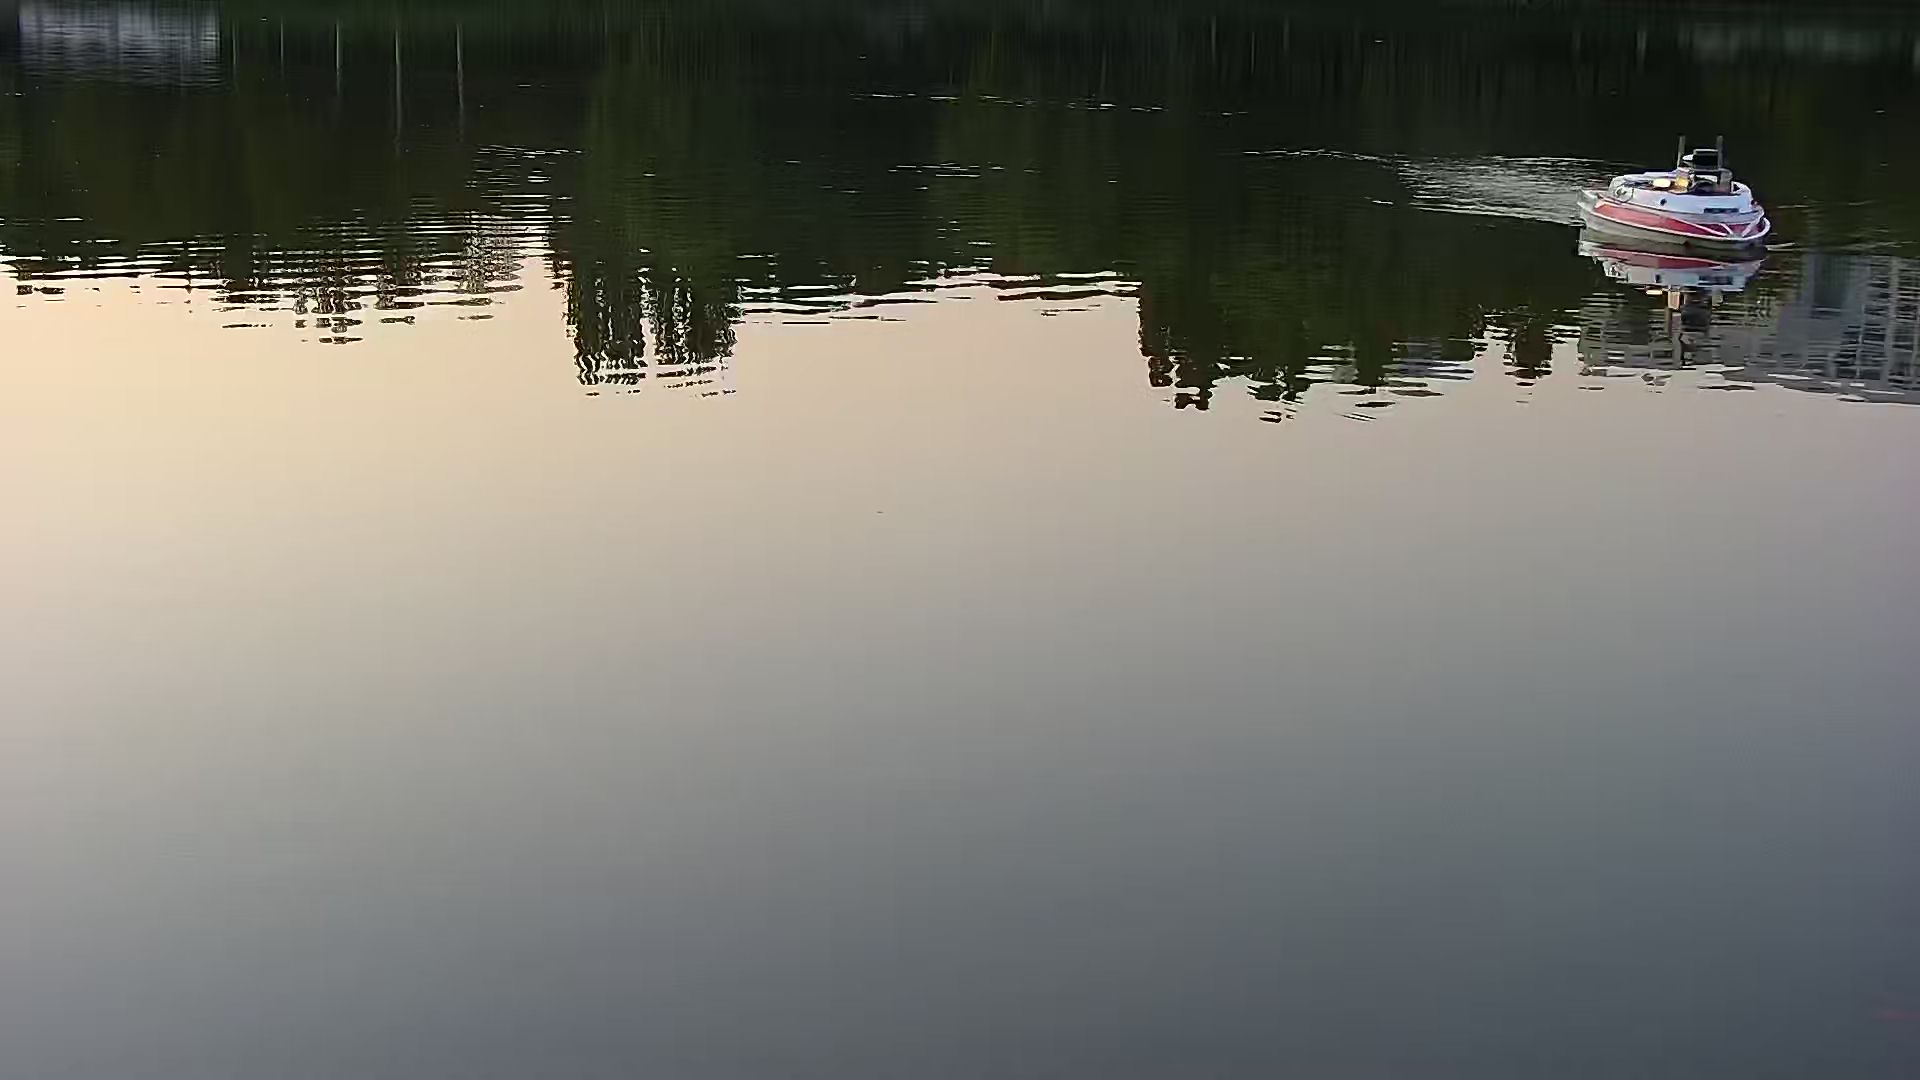boat: (1578, 137, 1772, 273)
